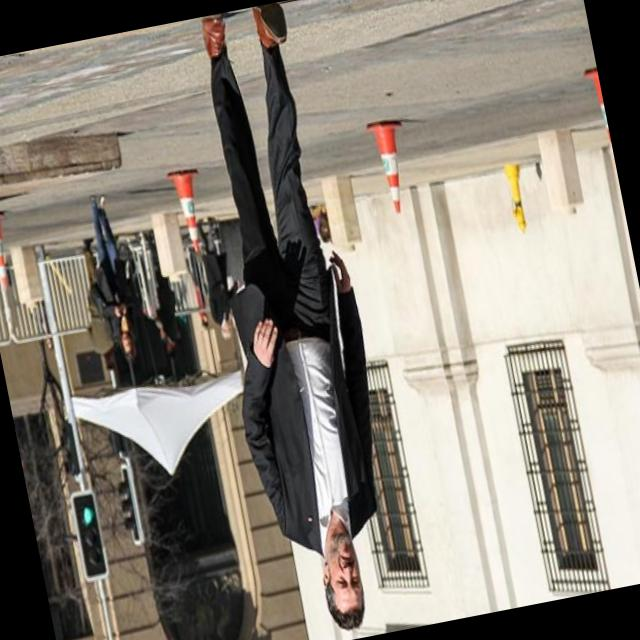person: (165, 0, 431, 640), (82, 188, 151, 364), (180, 210, 250, 356), (136, 221, 190, 362)
